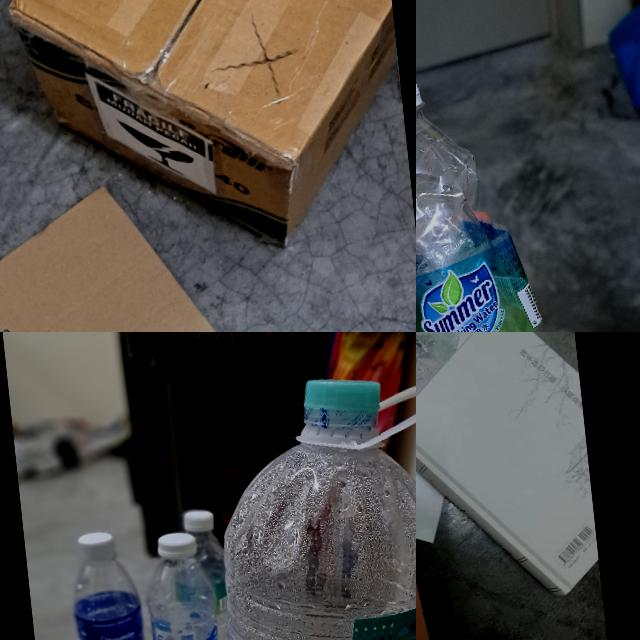garrafa plástica: (200, 412, 416, 640), (416, 105, 565, 332), (141, 551, 226, 640), (69, 551, 153, 640), (185, 530, 236, 640)
papel: (416, 332, 612, 640)
papelão: (0, 0, 415, 274), (0, 167, 299, 332)
sacola plástica: (605, 0, 640, 120)
tampa plástica: (302, 370, 384, 421), (156, 530, 198, 559), (78, 531, 113, 555), (182, 508, 214, 532)
